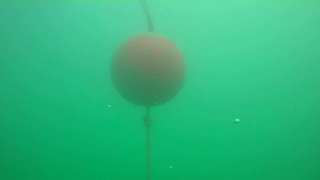bubble: (234, 118, 241, 123), (107, 104, 111, 108), (201, 32, 205, 36), (213, 54, 216, 57), (169, 166, 171, 168)
buoy: (108, 31, 187, 107)
